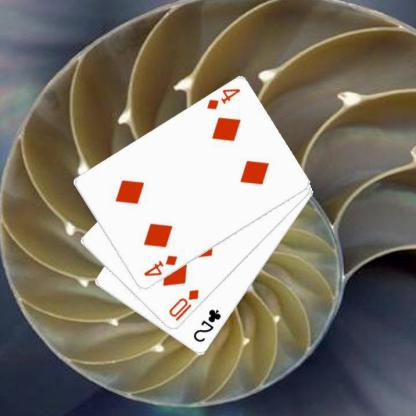10D: (166, 287, 201, 322)
2C: (190, 307, 223, 344)
4D: (203, 86, 242, 112), (141, 253, 179, 278)
